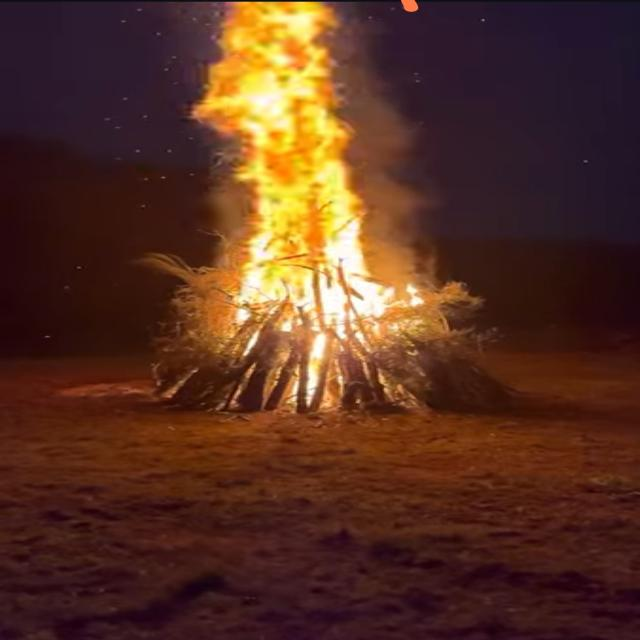fire: (191, 0, 422, 411)
